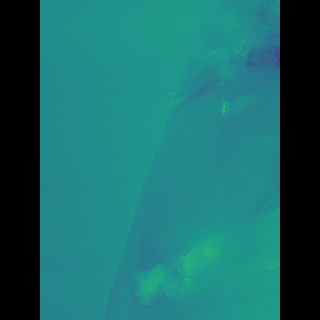Loch: (136, 9, 247, 310)
